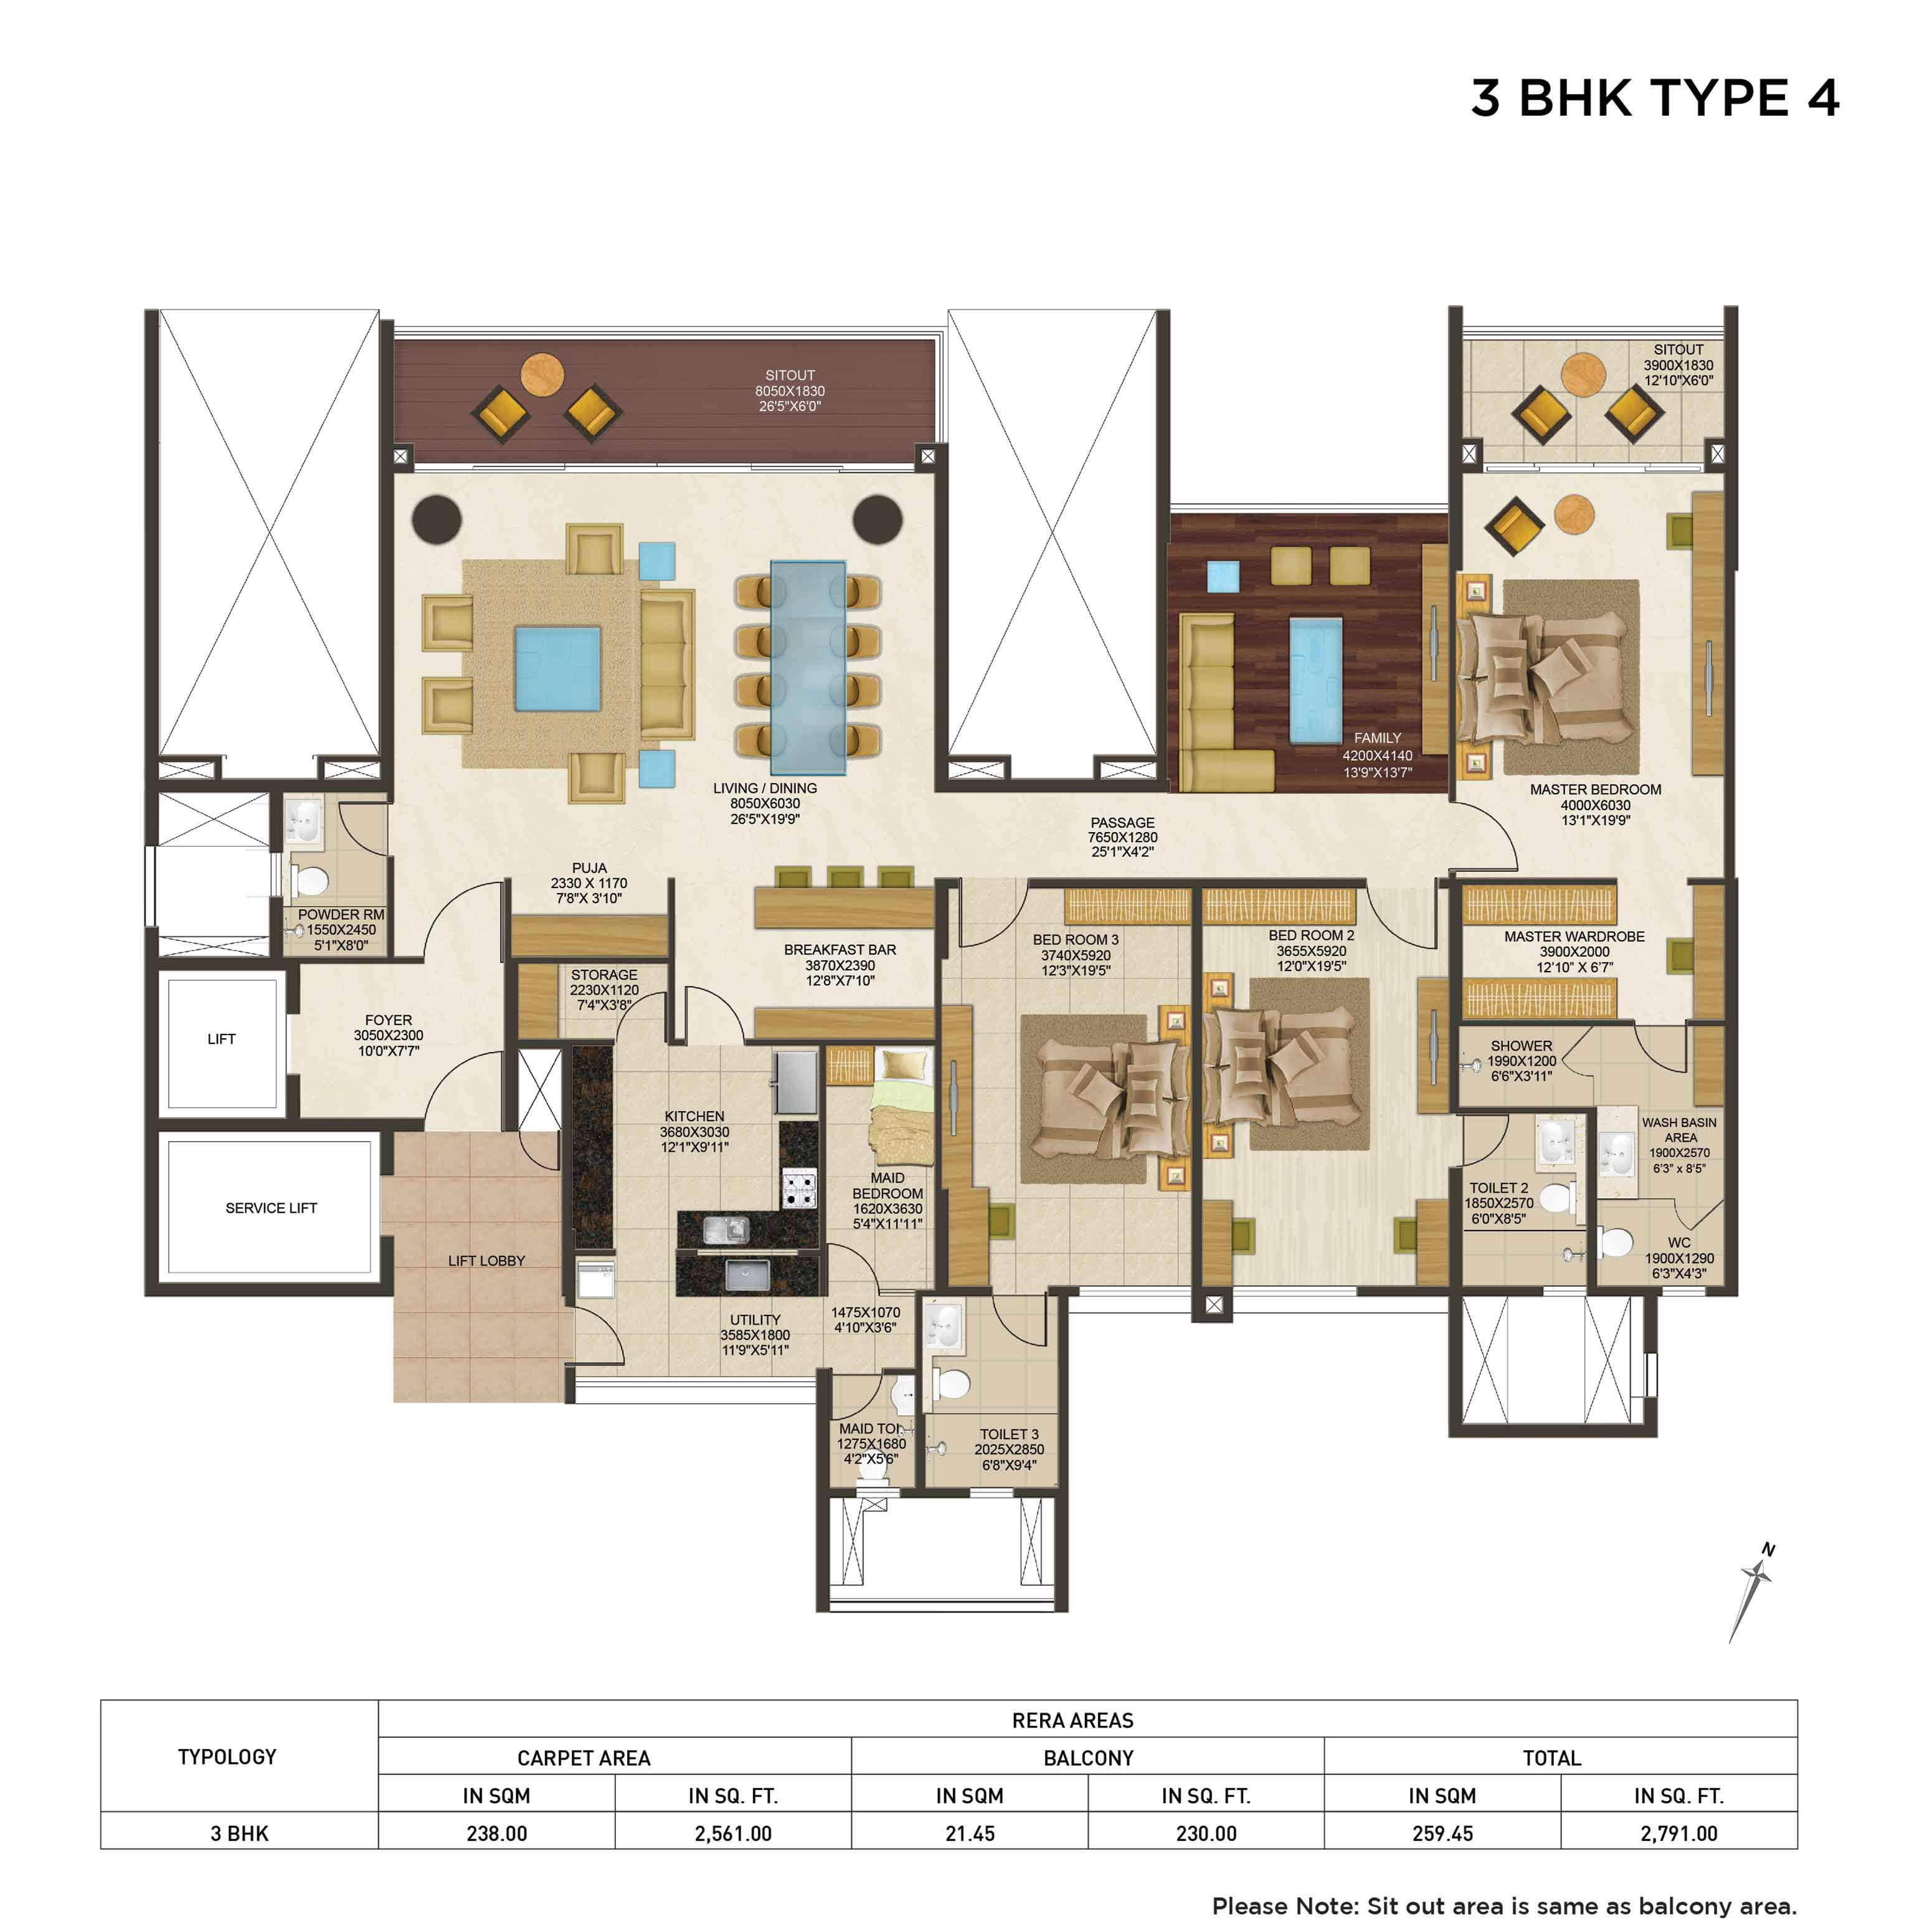window: (412, 459, 919, 479), (1163, 498, 1454, 516), (572, 1372, 818, 1392), (1457, 324, 1728, 341), (1477, 459, 1709, 475), (1075, 1283, 1195, 1300), (1230, 1284, 1361, 1300), (264, 850, 285, 901), (1660, 1281, 1709, 1300), (852, 1483, 903, 1501), (968, 1483, 1016, 1501), (1540, 1284, 1589, 1299)
